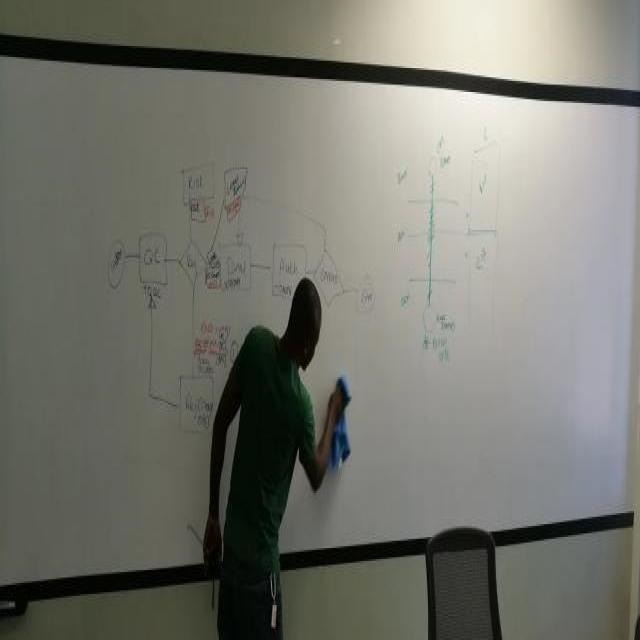Instructor: (234, 256, 340, 632)
White-board: (0, 53, 640, 593)
